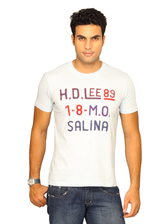clothoes: (30, 58, 142, 189)
